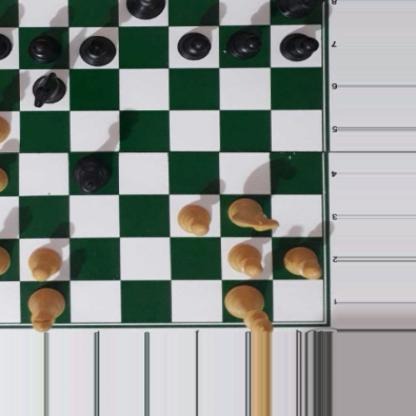black-bishop: (76, 33, 118, 67)
black-king: (124, 0, 167, 20)
black-knight: (28, 71, 67, 108)
black-pawn: (279, 30, 317, 61), (225, 29, 262, 59), (176, 29, 211, 60), (27, 32, 61, 62), (0, 31, 11, 60)
black-queen: (71, 154, 112, 194)
black-rook: (277, 0, 326, 18)
white-bishop: (27, 287, 65, 334), (0, 113, 11, 146)
white-king: (223, 284, 275, 334)
white-knight: (225, 197, 280, 233)
white-pawn: (226, 242, 266, 278), (282, 245, 322, 278), (26, 246, 62, 281), (176, 202, 211, 236), (0, 164, 9, 195)
white-rook: (0, 243, 11, 288)
